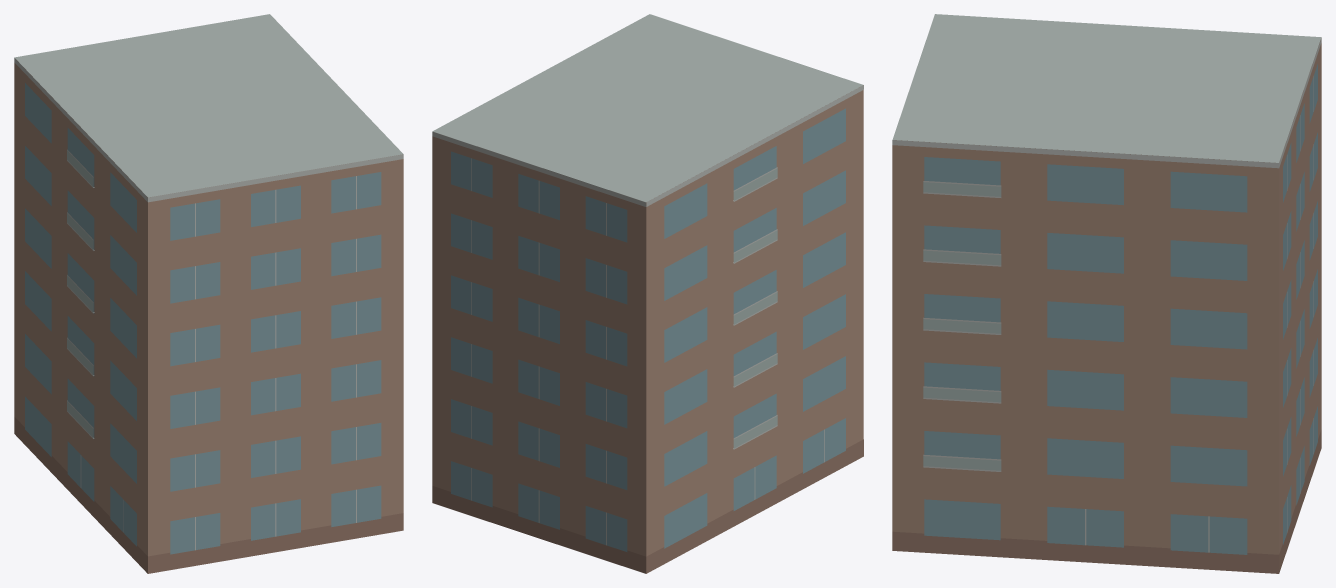
The model's file is survey-upis-32659148.glb.
3 views of the same model, side by side, from view 1: azimuth 30°, elevation 25°; view 2: azimuth 150°, elevation 25°; view 3: azimuth 270°, elevation 25° (orthographic). The views are drawn at different scales.
Parts seen in each view (by area): view 1: survey-upis-32659148.tmp; view 2: survey-upis-32659148.tmp; view 3: survey-upis-32659148.tmp.
Part boxes in pixels (<box>): survey-upis-32659148.tmp: <box>14,14,403,573</box>; survey-upis-32659148.tmp: <box>432,14,863,573</box>; survey-upis-32659148.tmp: <box>892,14,1321,573</box>.
Size of the model in its own units: 14.78 by 19 by 17.99.
